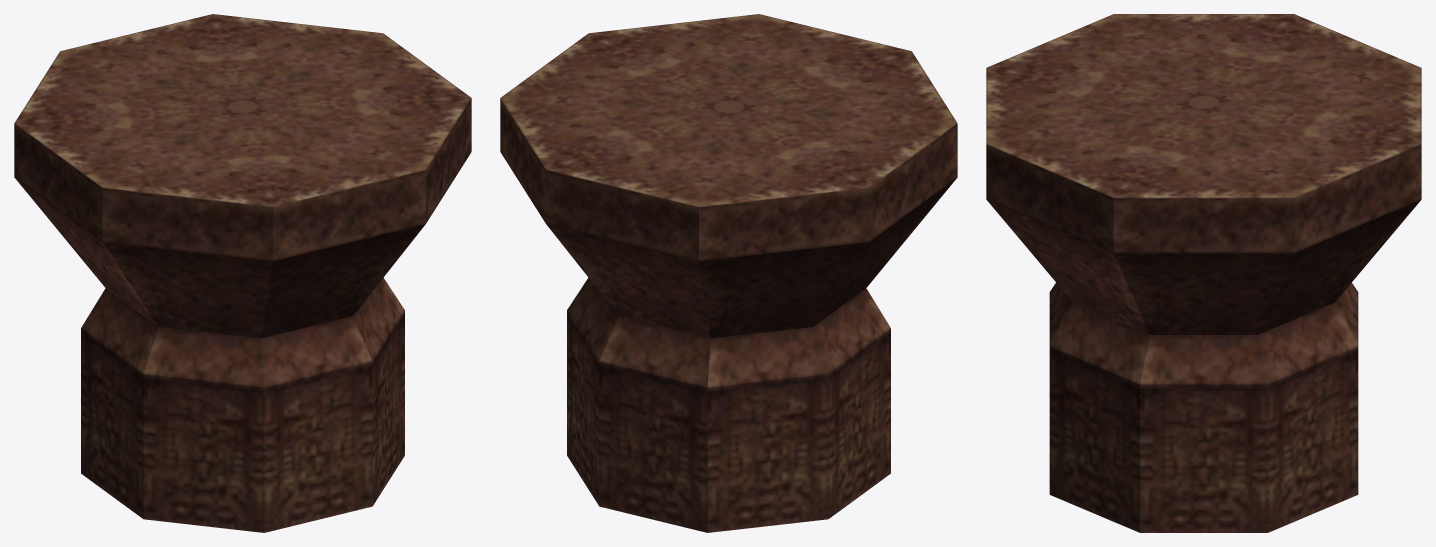
File: general_obj_bigtower11.fbx
3 renders of one model, left to right at view 1: azimuth 30°, elevation 25°; view 2: azimuth 150°, elevation 25°; view 3: azimuth 270°, elevation 25°, orthographic. The views are drawn at different scales.
Visible parts, largest first — view 1: Sphere01; view 2: Sphere01; view 3: Sphere01.
Part boxes in pixels (bbox=[...]): Sphere01: bbox=[14, 14, 471, 532]; Sphere01: bbox=[500, 14, 957, 532]; Sphere01: bbox=[986, 14, 1421, 532].
Size of the model in its own units: 4.31 by 4 by 4.31.
